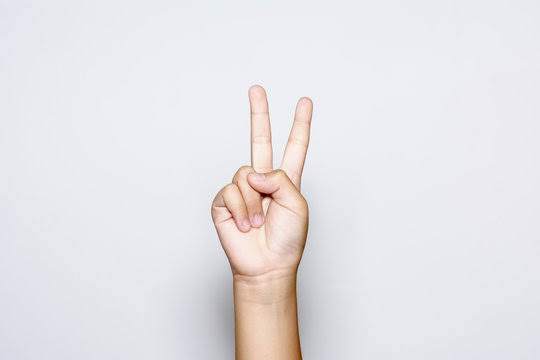peace_sign: (205, 81, 320, 279)
